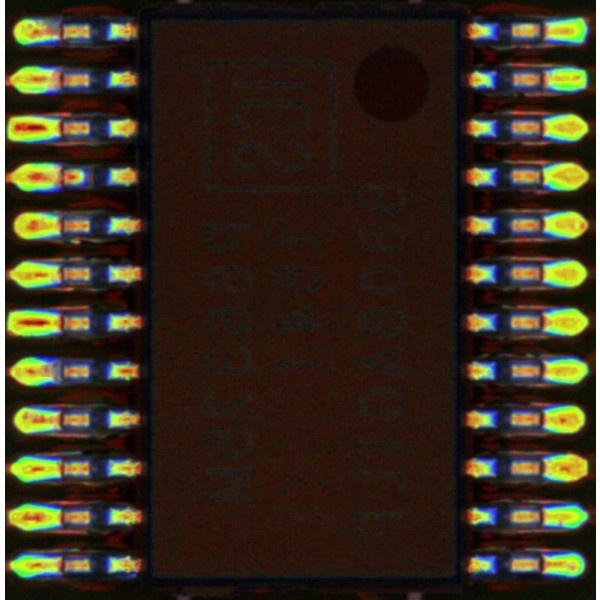Bad_podu: (44, 170, 80, 183), (529, 71, 560, 85), (531, 316, 561, 330), (529, 412, 557, 426), (44, 24, 73, 37), (530, 462, 561, 474), (45, 559, 75, 571), (530, 364, 557, 377), (44, 414, 70, 426), (529, 559, 557, 570), (531, 25, 559, 36), (47, 219, 72, 231), (530, 511, 555, 522)
